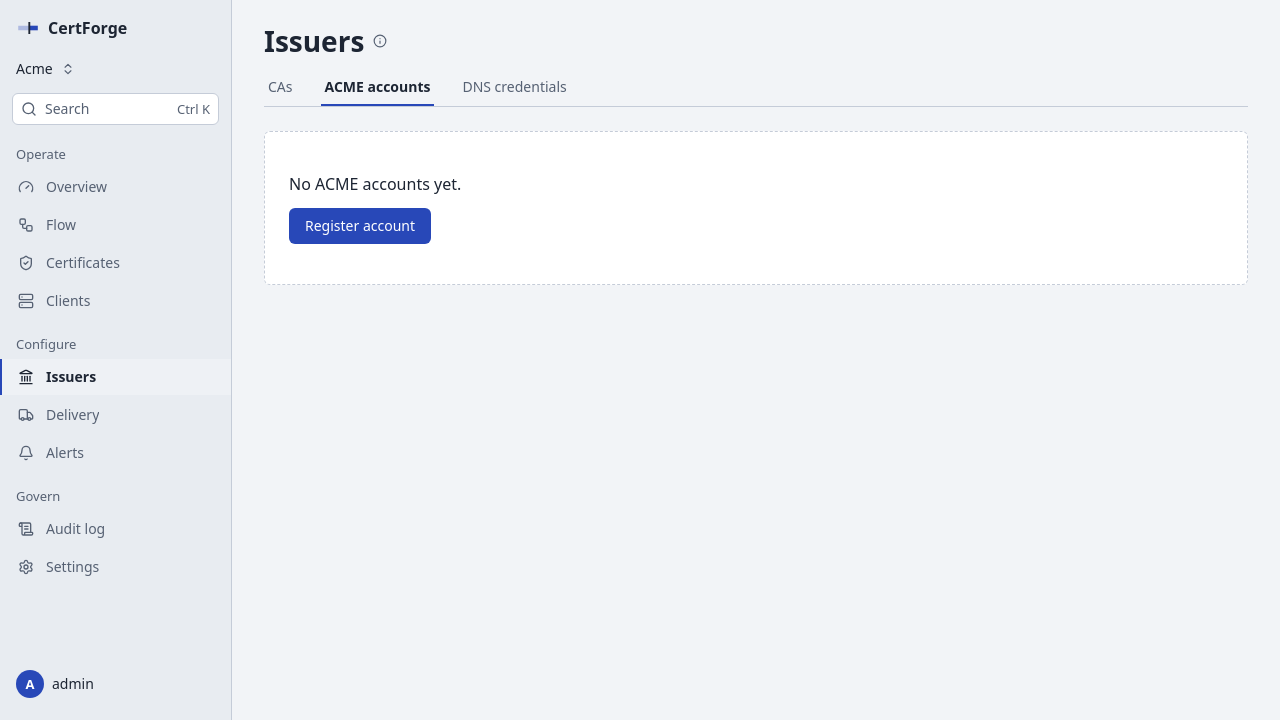
Test case: shows a form-level error when registering fails with a non-API error
Step 1. Click the button "Register account" → click(360, 226), box [289,208,431,244]
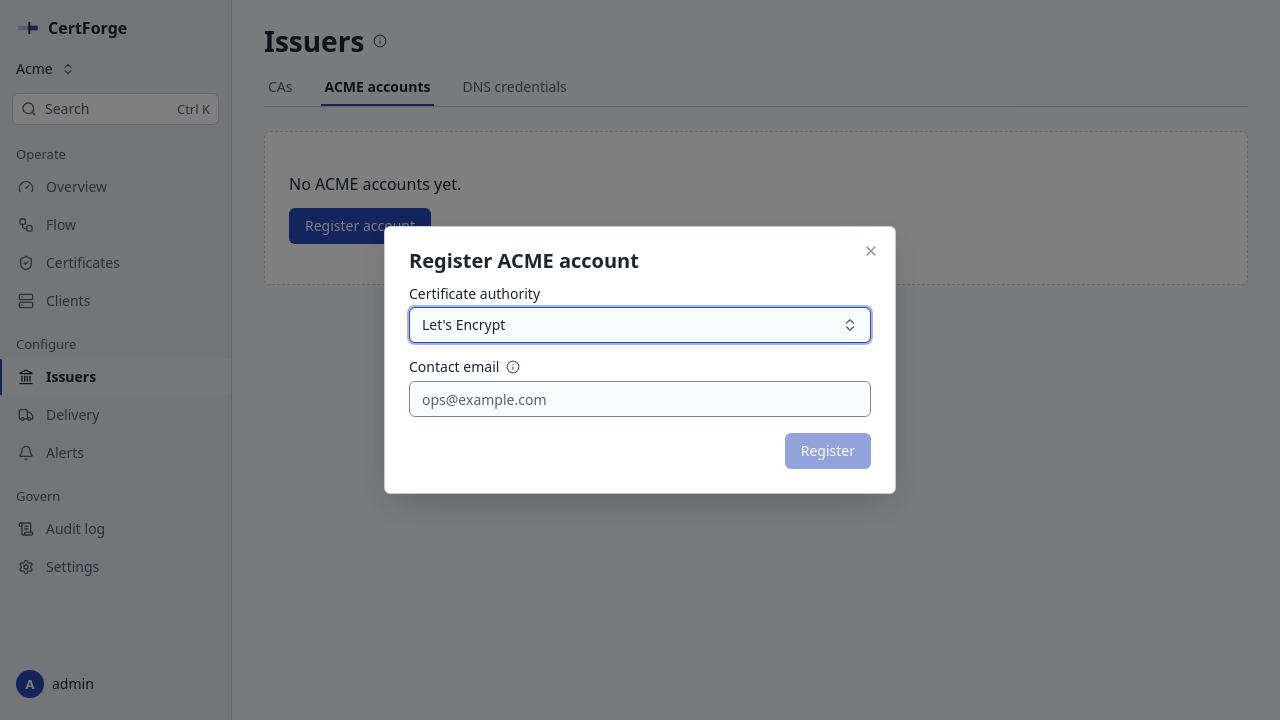
Step 2. Click the dropdown named "Certificate authority" → click(464, 324), box [409,307,871,343]
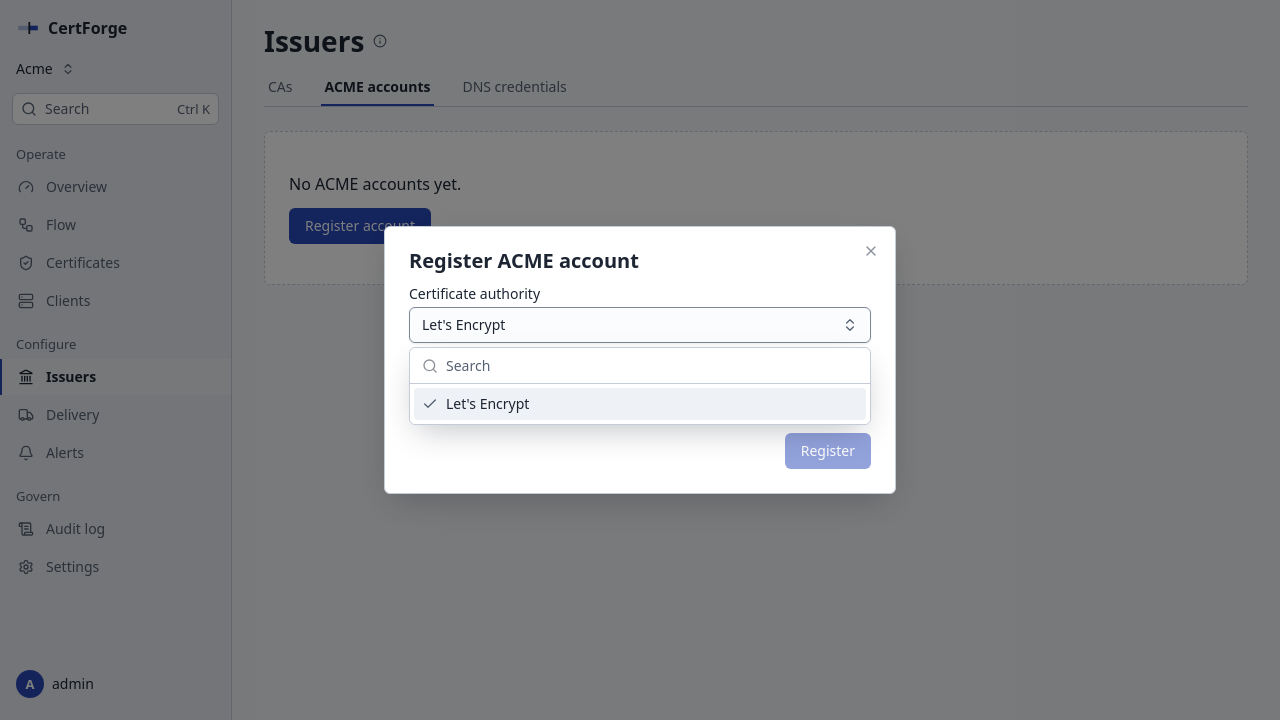
Step 3. Click the option "Let's Encrypt" → click(488, 404), box [414,388,866,420]
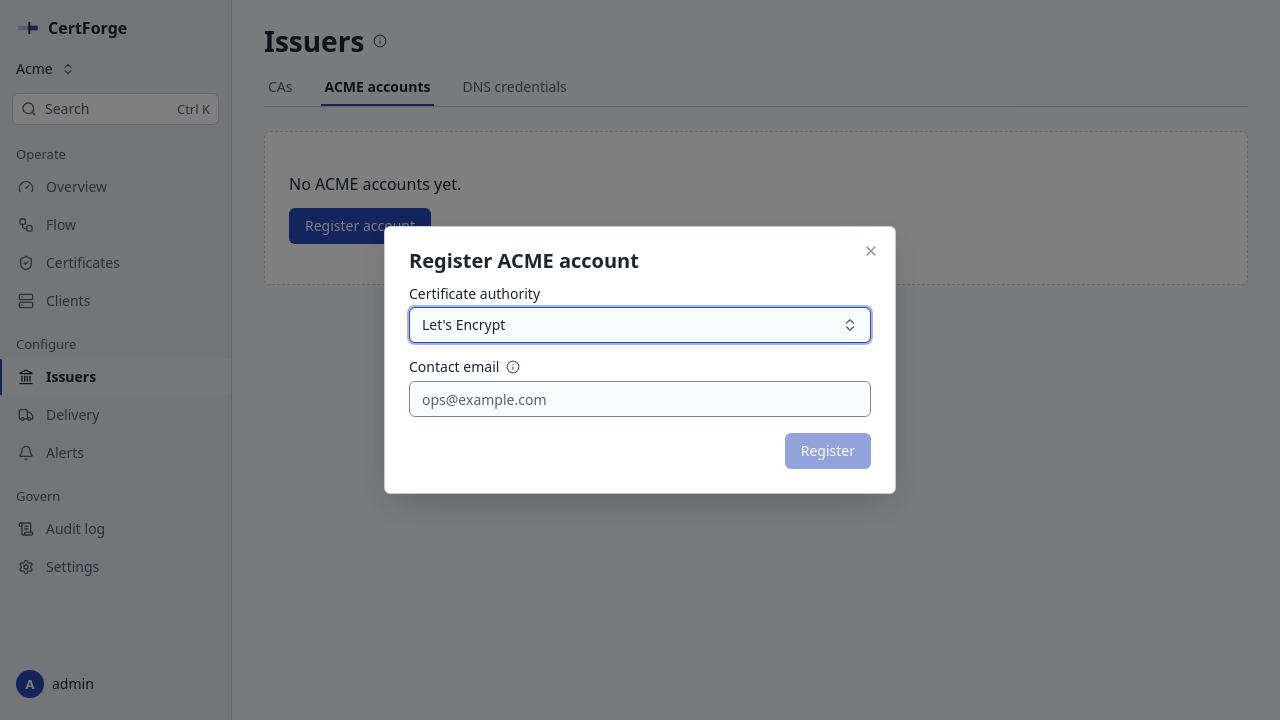
Step 4. Type "new@example.com" into the field labelled "Contact email" → (640, 399), box [409,381,871,417]
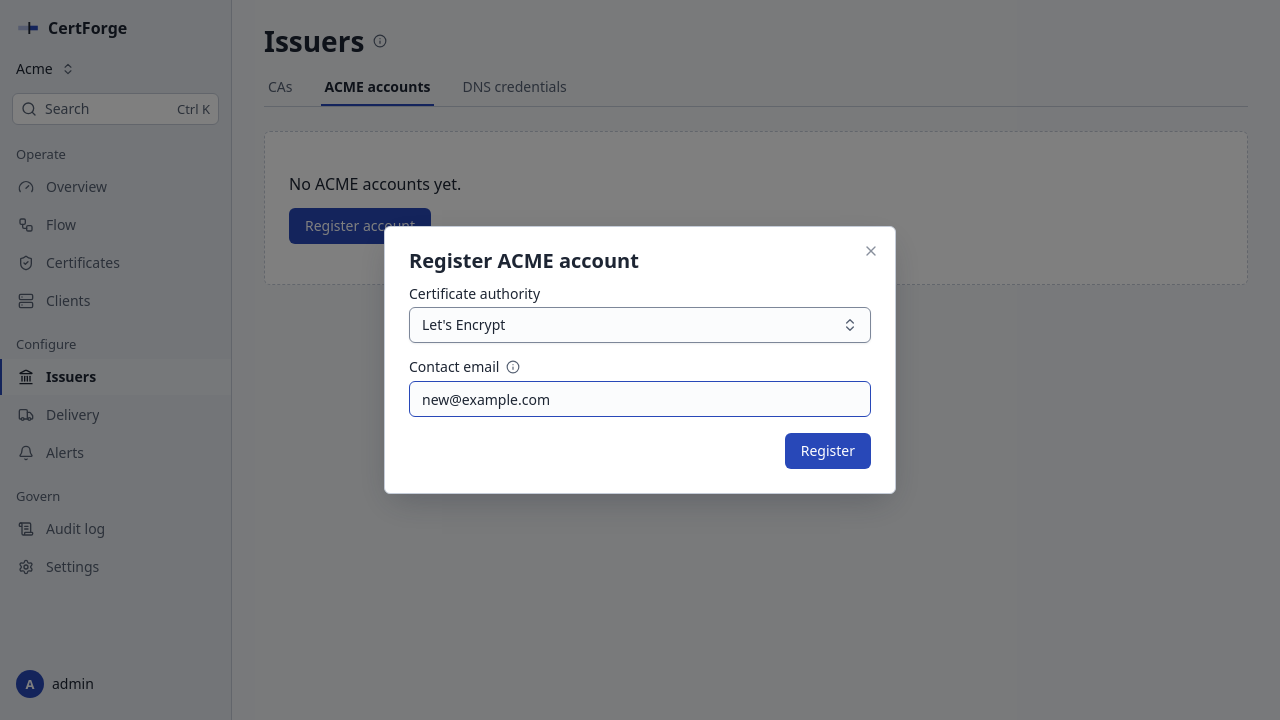
Step 5. Click the button "Register" → click(828, 451), box [785,433,871,469]
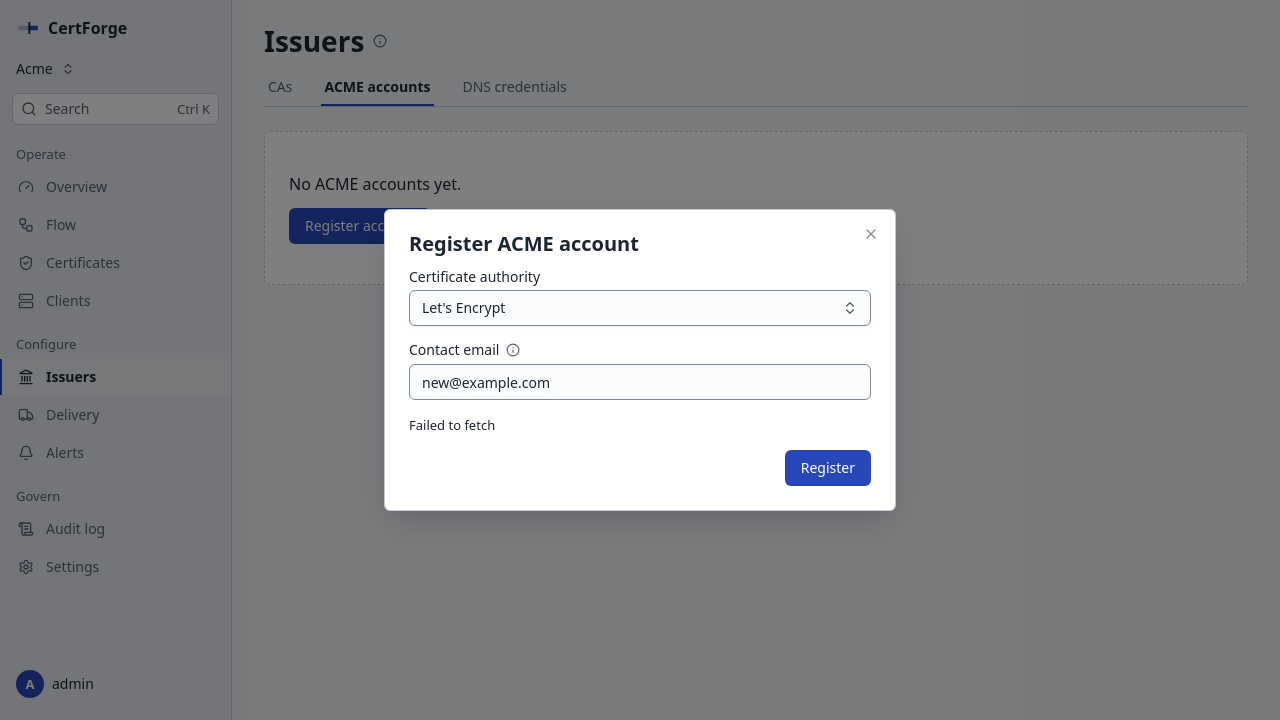
Expected: the message "Failed to fetch" is shown, [409,416,495,434]
